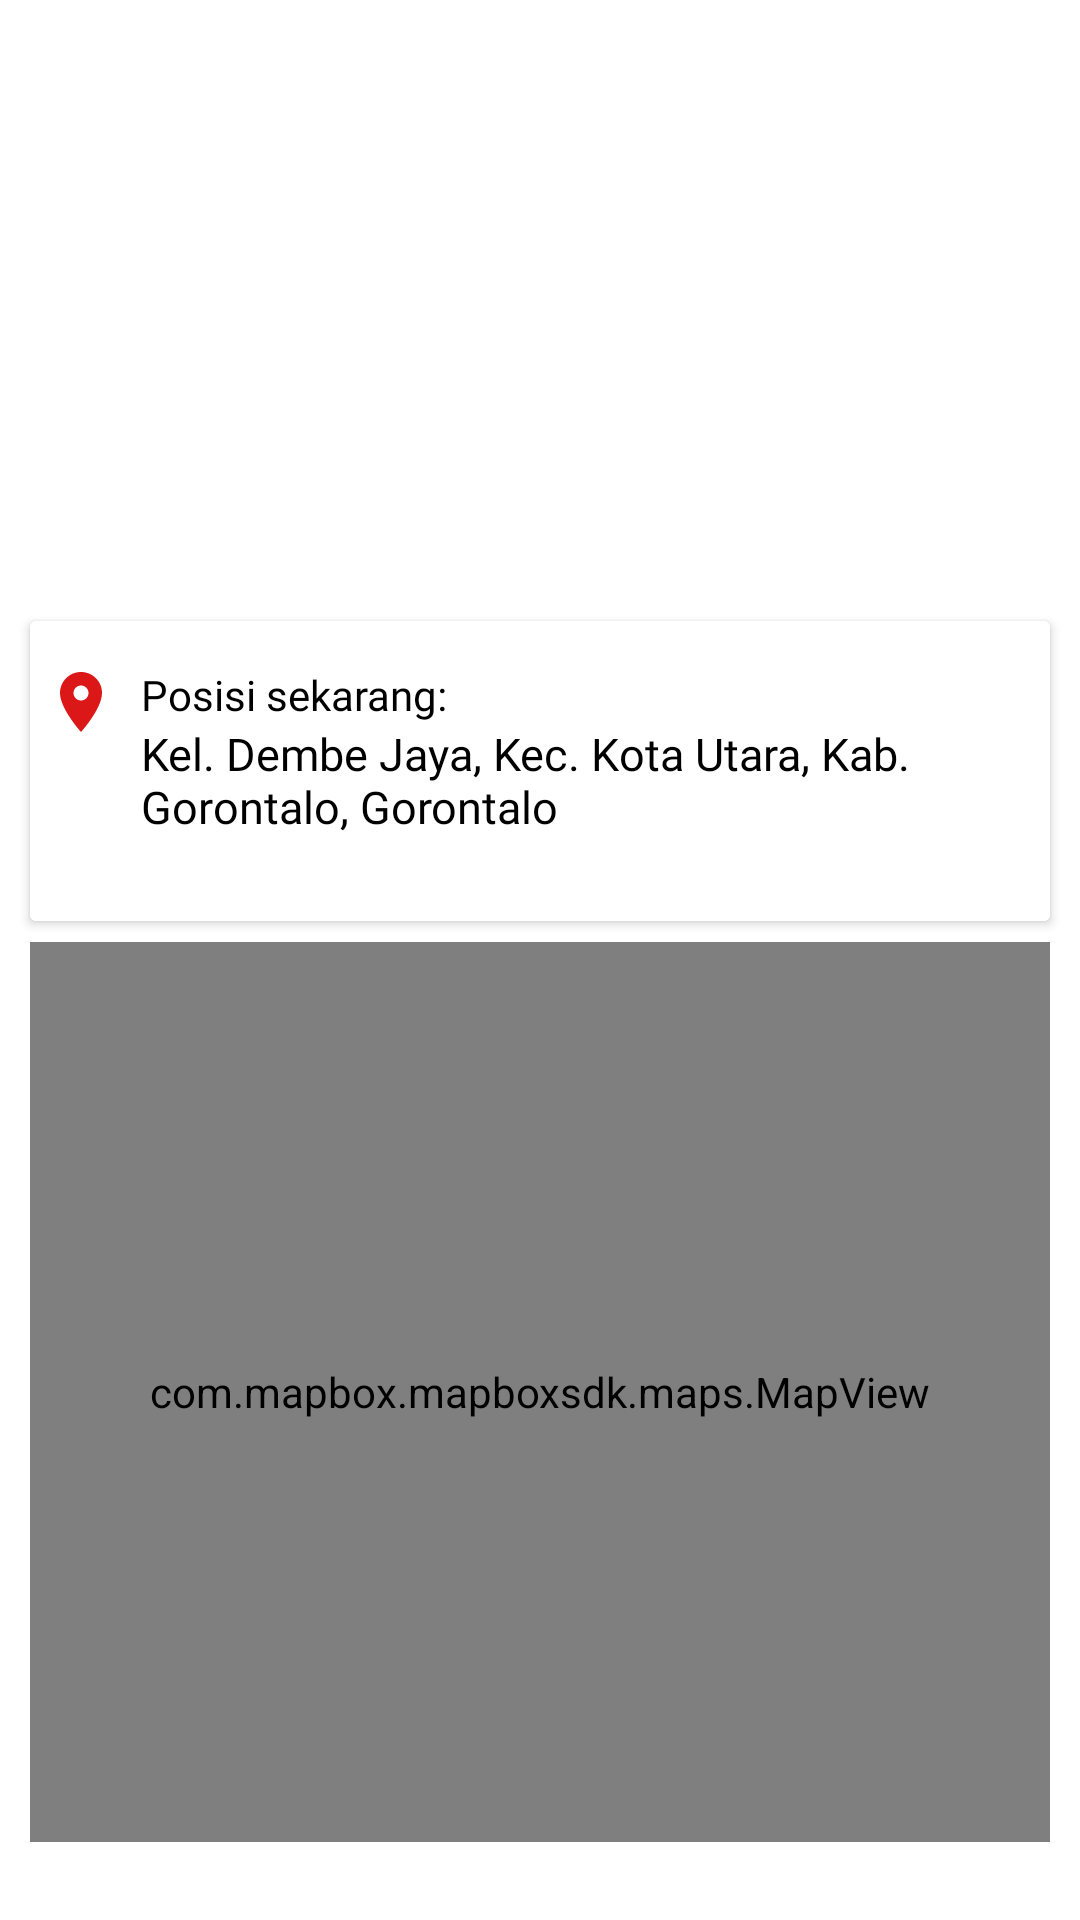

Icons on this 1080 × 1920 Android screen, each with the point to tap as (x=x, y=y):
place: (x=81, y=702)
